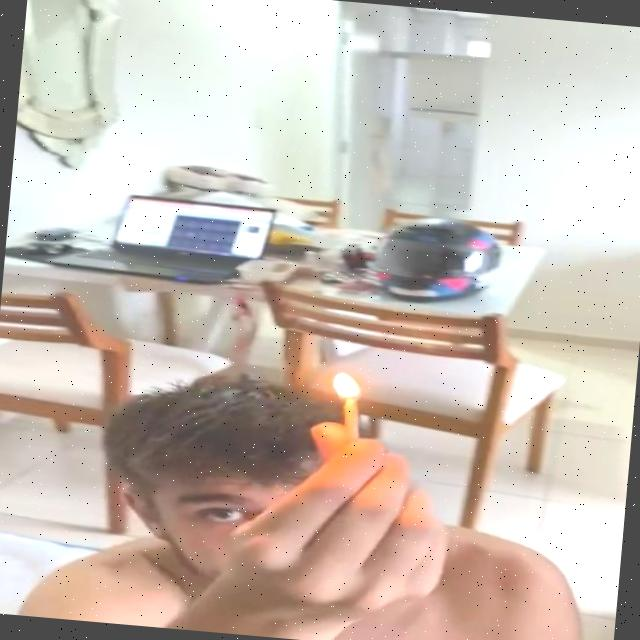fire: (331, 368, 364, 401)
